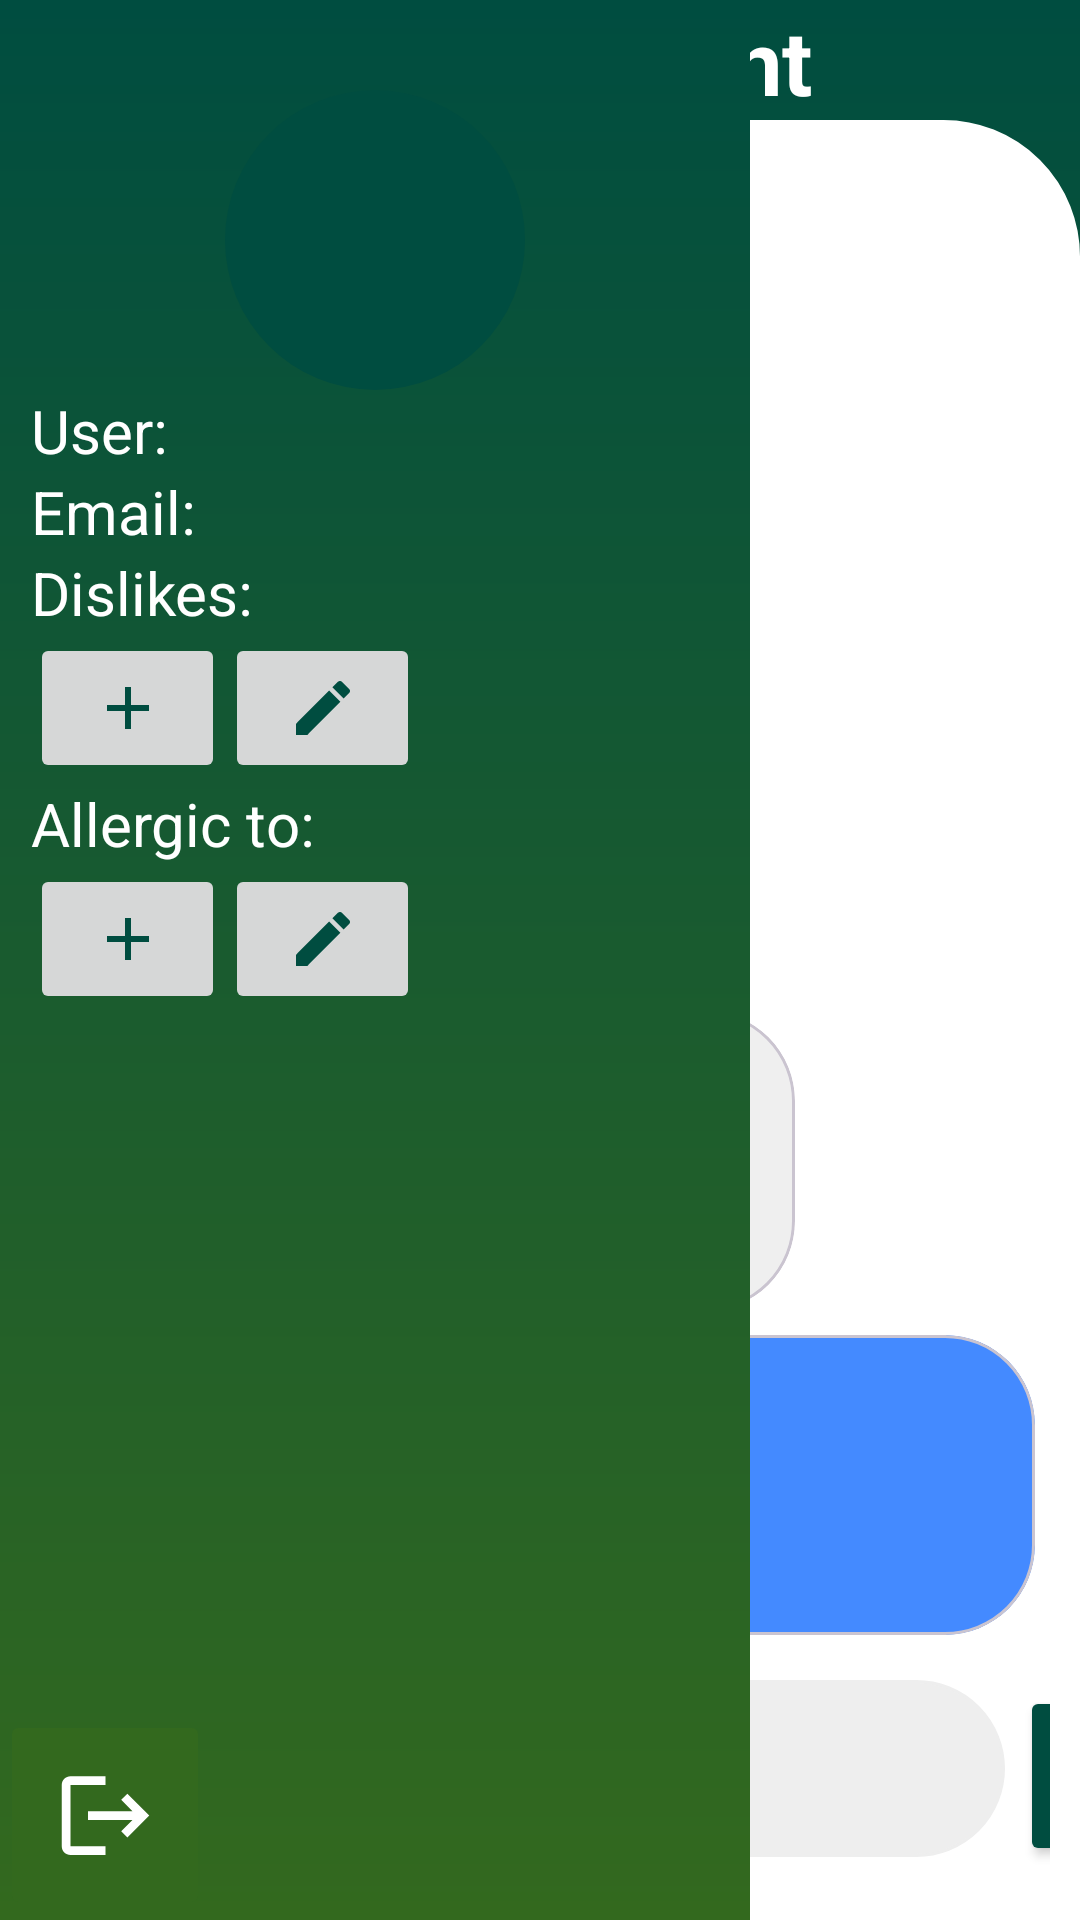

Icon click points for this 1080px×1920px phone screenshot, format [x,y]:
add: [127,708], [127,939]
edit: [322,708], [322,939]
